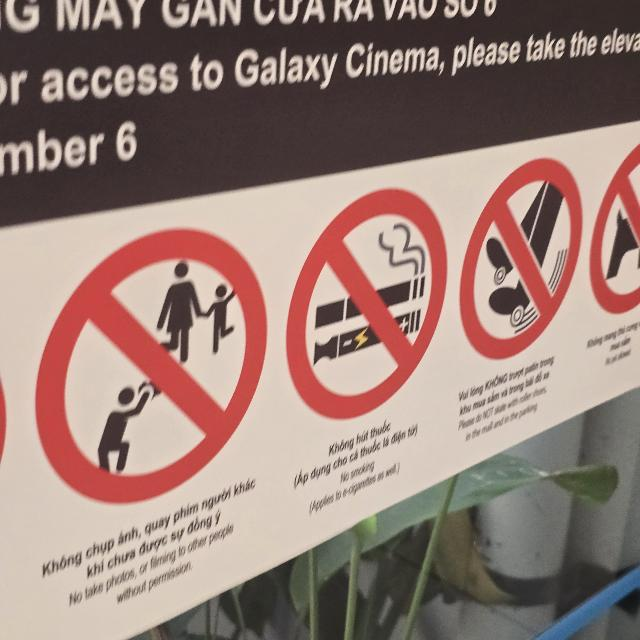cam hut thuoc: (286, 189, 447, 419)
